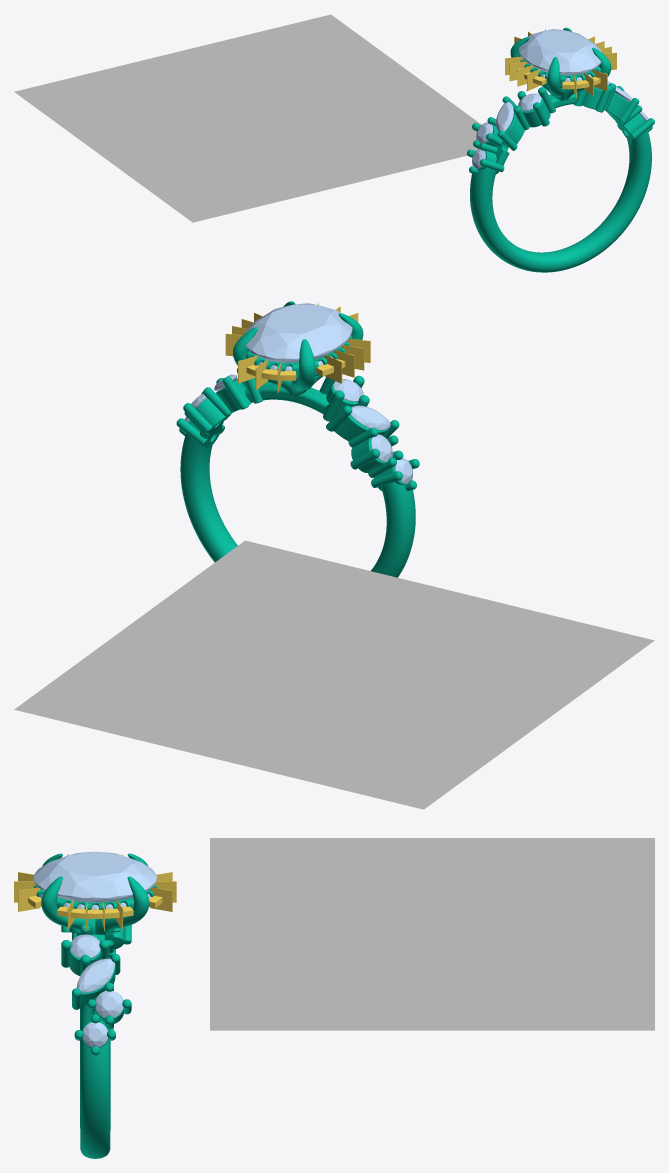
The picture shows the model from 3 angles, top to bottom: view 1: azimuth 30°, elevation 25°; view 2: azimuth 150°, elevation 25°; view 3: azimuth 270°, elevation 25°; orthographic projection. The views are drawn at different scales.
Visible parts, largest first — view 1: VR1051(front).3dm, Diamond_Oval, Diamond_Marquise; view 2: VR1051(front).3dm, Diamond_Oval; view 3: VR1051(front).3dm, Diamond_Oval, Diamond_Round (×3), Diamond_Marquise, Channel Cutter.
Boxes of the visible parts, x1,y1,x2,y2 form: VR1051(front).3dm: (14, 14, 651, 272); Diamond_Oval: (519, 29, 601, 75); Diamond_Marquise: (496, 101, 513, 131); VR1051(front).3dm: (14, 301, 654, 809); Diamond_Oval: (244, 303, 352, 363); VR1051(front).3dm: (33, 838, 654, 1158); Diamond_Oval: (33, 851, 157, 902); Diamond_Round (×3): (70, 934, 123, 1047); Diamond_Marquise: (77, 958, 114, 992); Channel Cutter: (57, 906, 133, 918).
Bounding box in the file's own units: 5.57 × 2.93 × 6.01.
